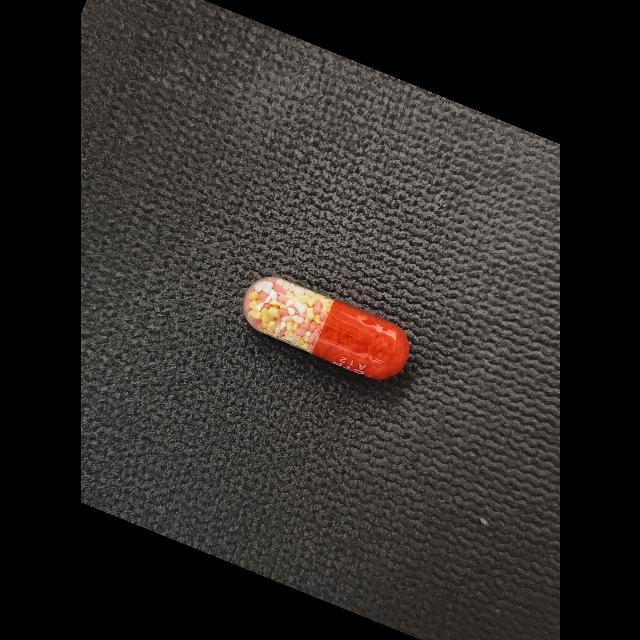Intact Capsule: (243, 276, 409, 380)
